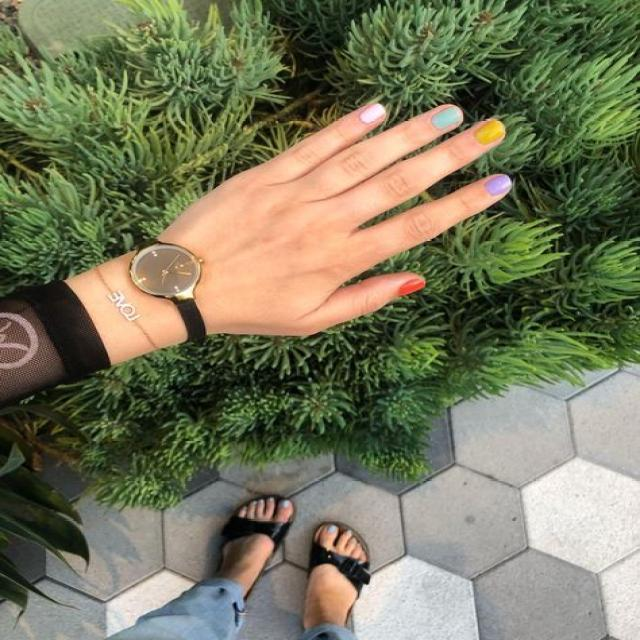Fingernail: (478, 120, 504, 144), (433, 107, 461, 128), (486, 175, 511, 195), (360, 104, 385, 123), (400, 279, 424, 295)
